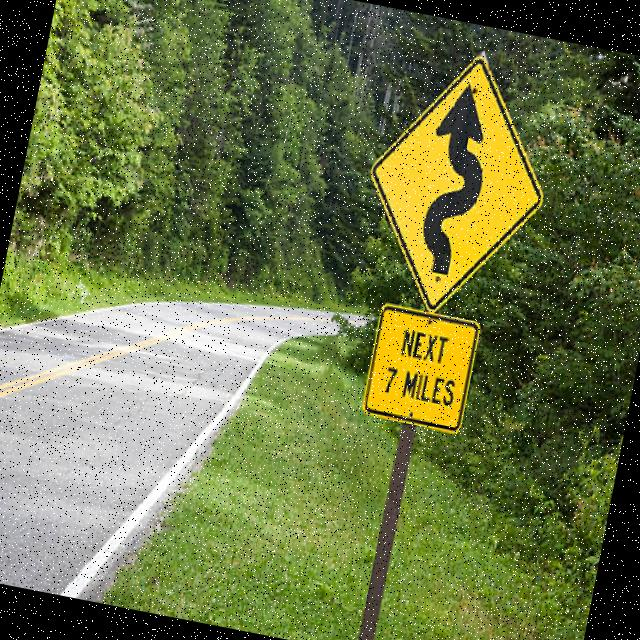left_sharp_curve: (344, 30, 579, 336)
